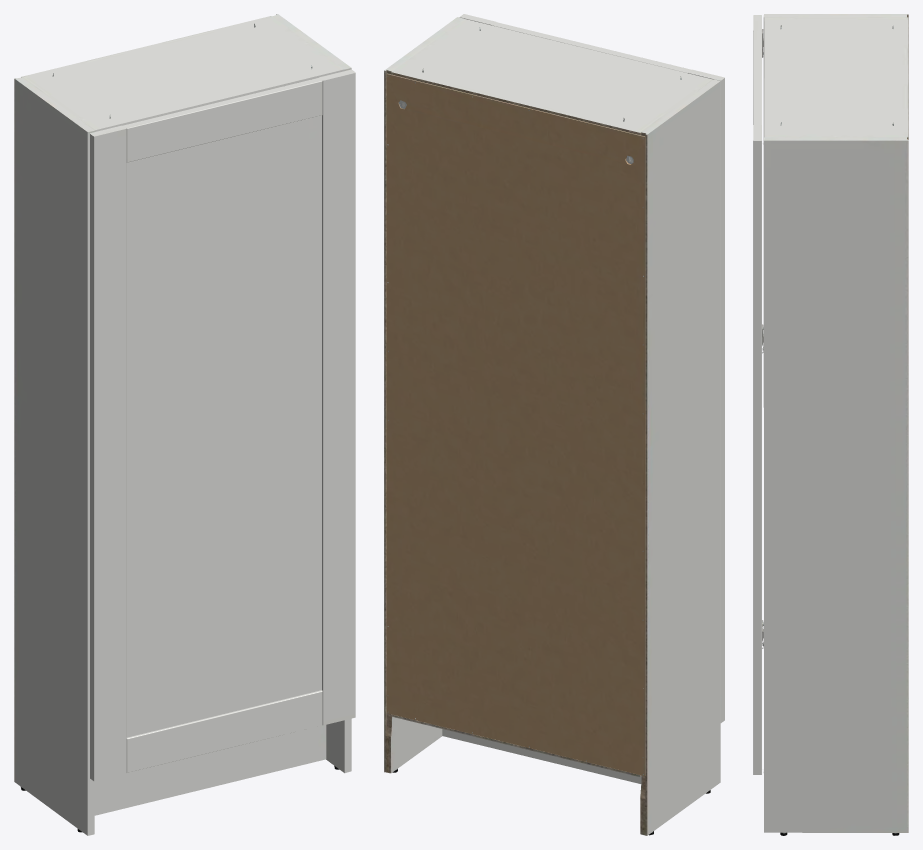
The model's file is knoxhult-armario-alto-con-puerta-blanco-estructura.glb.
3 renders of one model, left to right at view 1: azimuth 30°, elevation 25°; view 2: azimuth 150°, elevation 25°; view 3: azimuth 270°, elevation 25°, orthographic.
Parts seen in each view (by area): view 1: ASY_LPT01_10604354_S01_NV01, ASY_ART_10604354_S01_NV01; view 2: ASY_ART_10604354_S01_NV01, ASY_LPT01_10604354_S01_NV01; view 3: ASY_ART_10604354_S01_NV01, ASY_LPT01_10604354_S01_NV01.
Boxes of the visible parts, bbox=[...] form: ASY_LPT01_10604354_S01_NV01: bbox=[90, 69, 355, 781]; ASY_ART_10604354_S01_NV01: bbox=[14, 14, 351, 835]; ASY_ART_10604354_S01_NV01: bbox=[384, 17, 720, 835]; ASY_LPT01_10604354_S01_NV01: bbox=[459, 14, 724, 722]; ASY_ART_10604354_S01_NV01: bbox=[763, 14, 908, 835]; ASY_LPT01_10604354_S01_NV01: bbox=[753, 15, 763, 774].
Size of the model in its own units: 0.6001 by 1.55 by 0.3114.
3 materials, 2 textured.
